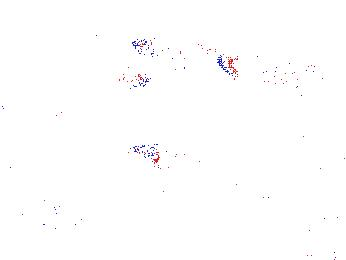X-ray fish: (101, 186, 158, 234)
glassfish: (131, 142, 252, 179)
red belly glassfish: (80, 61, 151, 91)
redtail glassfish: (131, 38, 239, 73), (262, 62, 328, 86)
